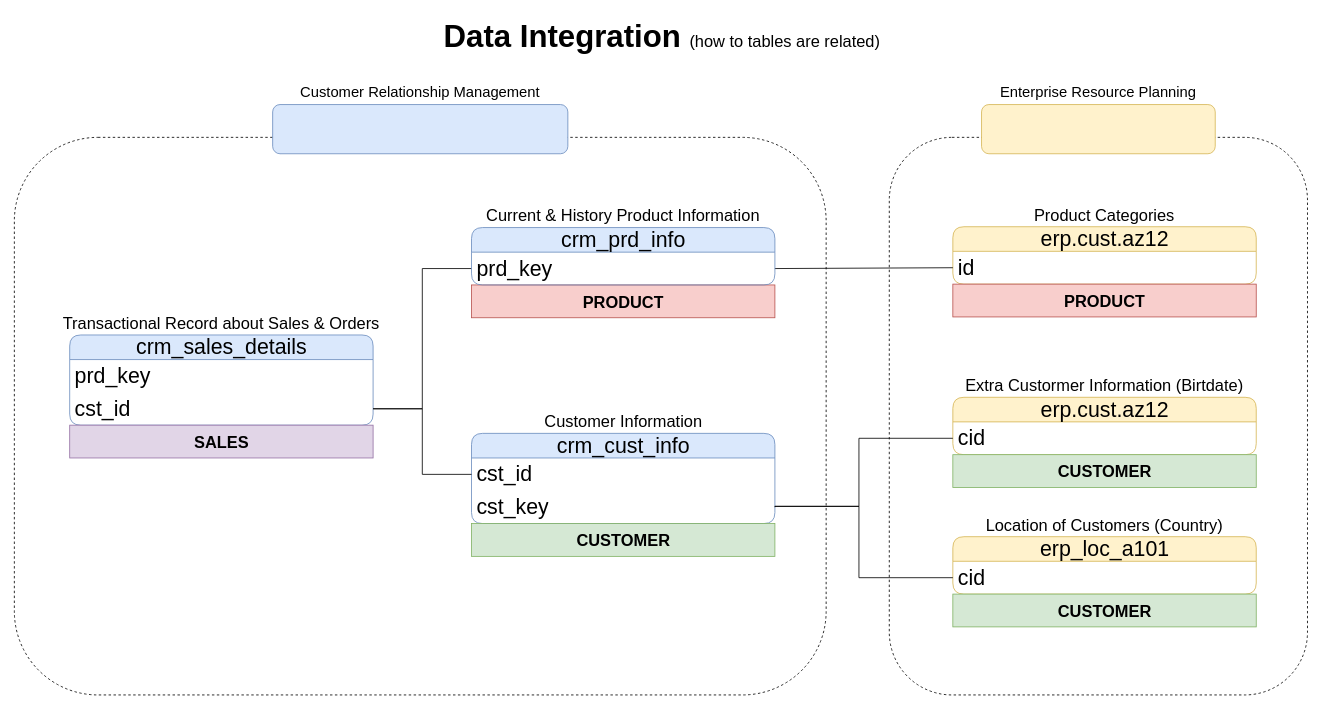
Image size: 1324x709. Some labels were removed from this diagram. Each missing label, with the centre of its shape:
"CRM" belongs at point (420, 129).
"ERP" belongs at point (1098, 129).
